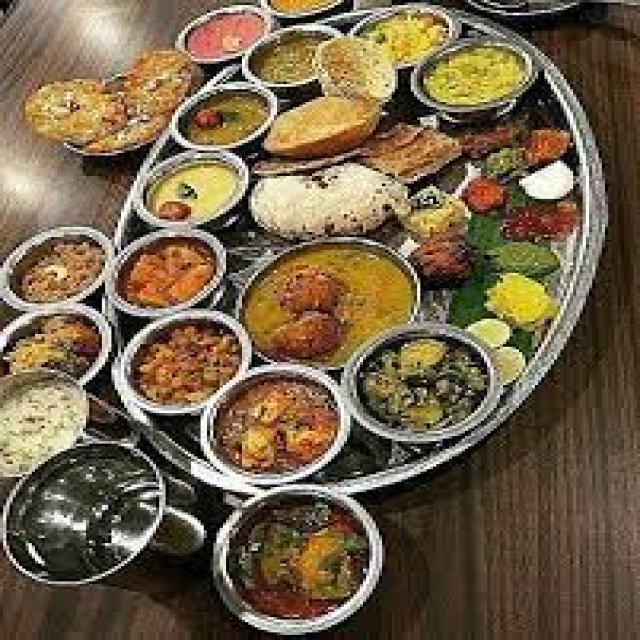curd: (10, 452, 174, 586)
dal: (420, 43, 539, 115)
papad: (252, 159, 413, 247)
raita: (516, 156, 576, 203)
rice: (13, 73, 152, 157), (1, 372, 92, 474)
sambar-rasam: (176, 6, 272, 66)
sweet: (114, 317, 240, 415), (113, 227, 233, 317), (6, 236, 108, 305), (8, 310, 111, 378), (244, 28, 336, 92)
veg-fry: (208, 370, 352, 482)
